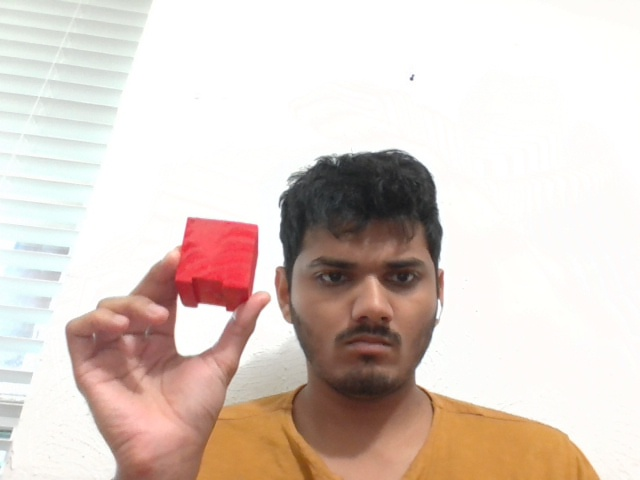RedBlock: (171, 215, 261, 299)
